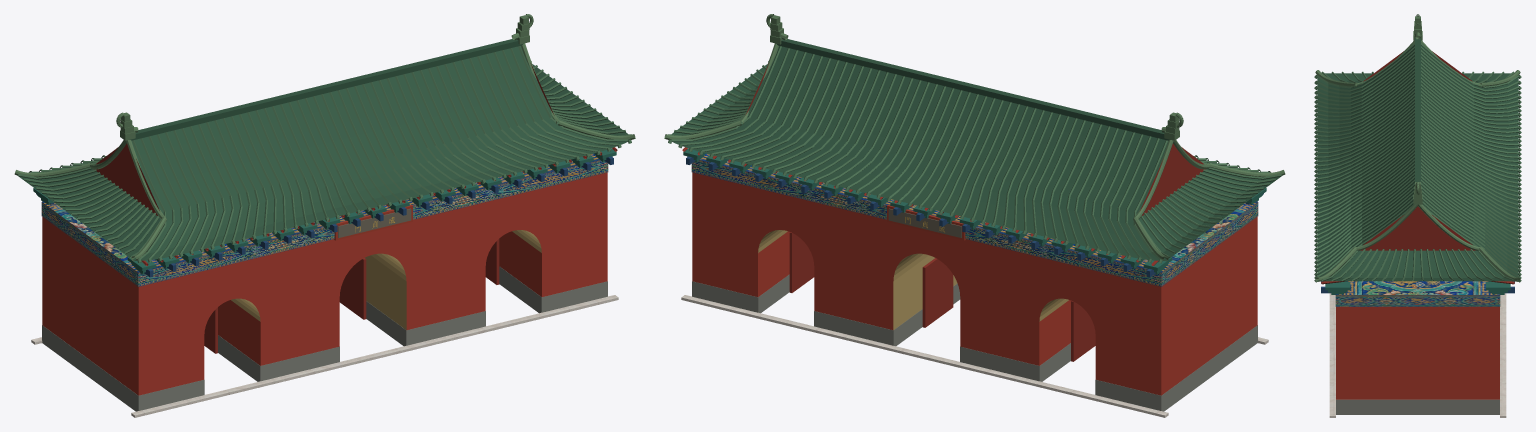
The model's file is chengzhen-preview.glb.
The picture shows the model from 3 angles, left to right: view 1: azimuth 30°, elevation 25°; view 2: azimuth 150°, elevation 25°; view 3: azimuth 270°, elevation 25°; orthographic projection. The views are drawn at different scales.
Parts seen in each view (by area): view 1: chengzhen red, chengzhen roof, chengzhen tile, chengzhen base, chengzhen frieze, chengzhen redDark, chengzhen stone, chengzhen jade, chengzhen ochre, chengzhen gold, chengzhen blue, chengzhen plaque; view 2: chengzhen red, chengzhen roof, chengzhen tile, chengzhen base, chengzhen frieze, chengzhen redDark, chengzhen stone, chengzhen jade, chengzhen gold, chengzhen ochre, chengzhen blue, chengzhen plaque; view 3: chengzhen tile, chengzhen roof, chengzhen red, chengzhen frieze, chengzhen redDark, chengzhen base, chengzhen gold, chengzhen stone, chengzhen jade.
Part boxes in pixels (box(x1,y1,x2,y2)): chengzhen red: box(42, 172, 607, 395); chengzhen roof: box(17, 39, 627, 260); chengzhen tile: box(18, 46, 631, 263); chengzhen base: box(42, 266, 607, 411); chengzhen frieze: box(41, 153, 608, 286); chengzhen redDark: box(94, 63, 617, 353); chengzhen stone: box(31, 295, 618, 417); chengzhen jade: box(33, 148, 616, 274); chengzhen ochre: box(231, 230, 541, 329); chengzhen gold: box(14, 14, 635, 261); chengzhen blue: box(36, 156, 613, 277); chengzhen plaque: box(338, 208, 411, 237); chengzhen red: box(692, 172, 1257, 395); chengzhen roof: box(672, 39, 1282, 260); chengzhen tile: box(668, 46, 1281, 263); chengzhen base: box(692, 274, 1257, 411); chengzhen frieze: box(691, 153, 1258, 286); chengzhen redDark: box(682, 63, 1205, 361); chengzhen stone: box(681, 295, 1268, 417); chengzhen jade: box(683, 148, 1266, 274); chengzhen gold: box(664, 14, 1285, 261); chengzhen ochre: box(758, 230, 1068, 329); chengzhen blue: box(686, 156, 1263, 277); chengzhen plaque: box(888, 208, 961, 237); chengzhen tile: box(1314, 43, 1521, 282); chengzhen roof: box(1317, 38, 1518, 281); chengzhen red: box(1336, 307, 1499, 399); chengzhen frieze: box(1335, 281, 1500, 306); chengzhen redDark: box(1321, 51, 1514, 284); chengzhen base: box(1336, 399, 1499, 414); chengzhen gold: box(1315, 14, 1520, 281); chengzhen stone: box(1329, 293, 1506, 417); chengzhen jade: box(1325, 281, 1510, 294).
Bounding box in the file's own units: 0.2369 × 0.1158 × 0.0993.
14 materials, 2 textured.
